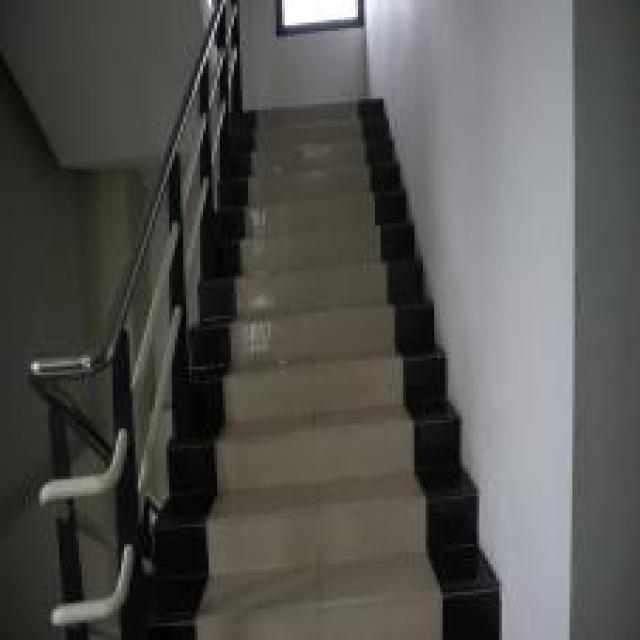upstair: (228, 96, 414, 637)
